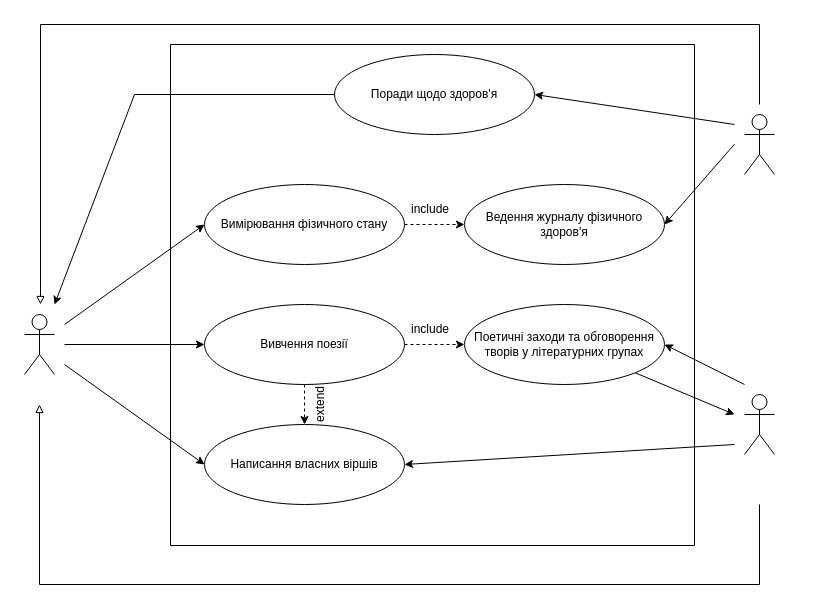
The diagram is 838 pixels wide and 610 high, and some of its shapes have lost their labels. Each missing label, with the centre of its shape:
"Людина" goes at [39,344].
"Літературна спільнота" goes at [759,424].
"Наглядач за станом здоров'я" goes at [759,144].
